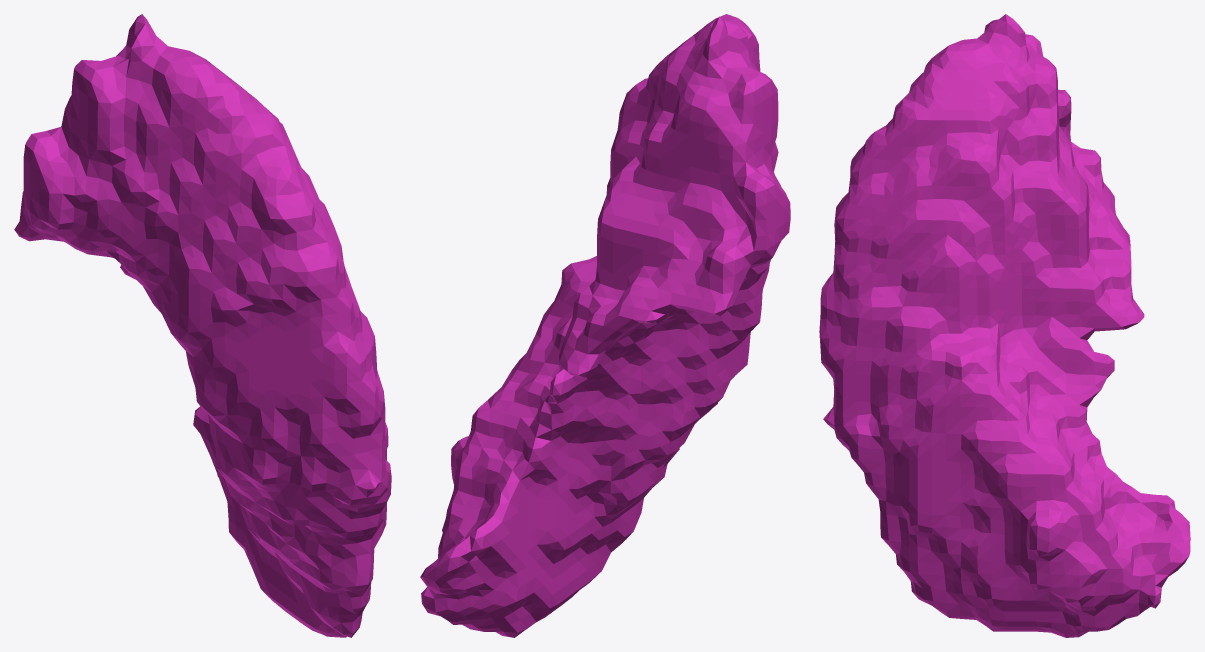
File: aseg_051_Right-Putamen.glb
3 views of the same model, side by side, from view 1: azimuth 30°, elevation 25°; view 2: azimuth 150°, elevation 25°; view 3: azimuth 270°, elevation 25° (orthographic). The views are drawn at different scales.
Size of the model in its own units: 21.92 by 40.67 by 24.89.
